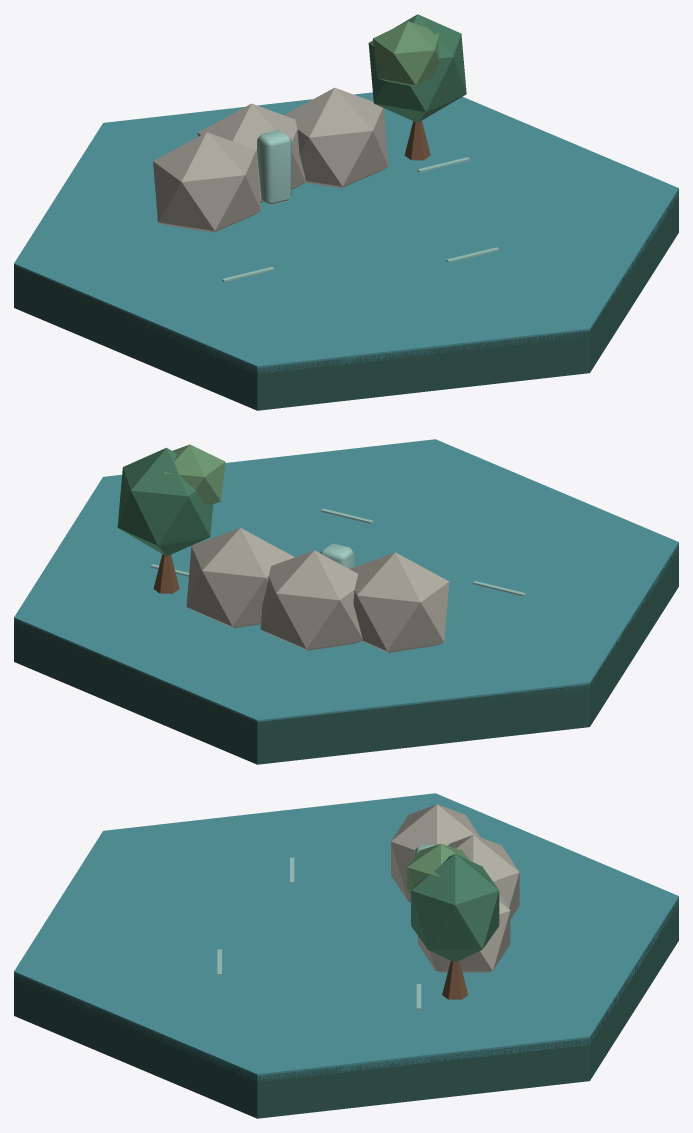
The model's file is spring.glb.
3 views of the same model, one above another, from view 1: azimuth 30°, elevation 25°; view 2: azimuth 150°, elevation 25°; view 3: azimuth 270°, elevation 25° (orthographic).
Visible parts, largest first — view 1: Cone.046, Cone.045, Icosphere.037, Icosphere.039, Icosphere.040, Icosphere.041, Icosphere.038, Cube.004, Cone.047; view 2: Cone.046, Cone.045, Icosphere.038, Icosphere.037, Icosphere.039, Icosphere.040, Icosphere.041, Cone.047, Cube.004; view 3: Cone.046, Cone.045, Icosphere.040, Icosphere.037, Icosphere.038, Icosphere.039, Icosphere.041, Cone.047.
Part boxes in pixels (box(x1,y1,x2,y2)): Cone.046: box(14, 92, 678, 373); Cone.045: box(14, 190, 678, 410); Icosphere.037: box(153, 132, 260, 232); Icosphere.039: box(284, 87, 388, 188); Icosphere.040: box(368, 14, 466, 121); Icosphere.041: box(373, 21, 439, 86); Icosphere.038: box(197, 103, 305, 202); Cube.004: box(257, 129, 291, 205); Cone.047: box(404, 120, 430, 160); Cone.046: box(14, 439, 678, 723); Cone.045: box(14, 545, 678, 764); Icosphere.038: box(260, 550, 362, 650); Icosphere.037: box(349, 552, 449, 652); Icosphere.039: box(186, 528, 294, 628); Icosphere.040: box(117, 447, 213, 555); Icosphere.041: box(163, 444, 225, 504); Cone.047: box(153, 554, 179, 593); Cube.004: box(320, 543, 354, 568); Cone.046: box(14, 793, 678, 1082); Cone.045: box(14, 899, 678, 1118); Icosphere.040: box(411, 854, 499, 961); Icosphere.037: box(391, 804, 480, 902); Icosphere.038: box(448, 835, 519, 919); Icosphere.039: box(418, 894, 510, 972); Icosphere.041: box(407, 843, 474, 892); Cone.047: box(442, 960, 468, 999).
Bounding box in the file's own units: 3.67 × 1.14 × 3.67.
